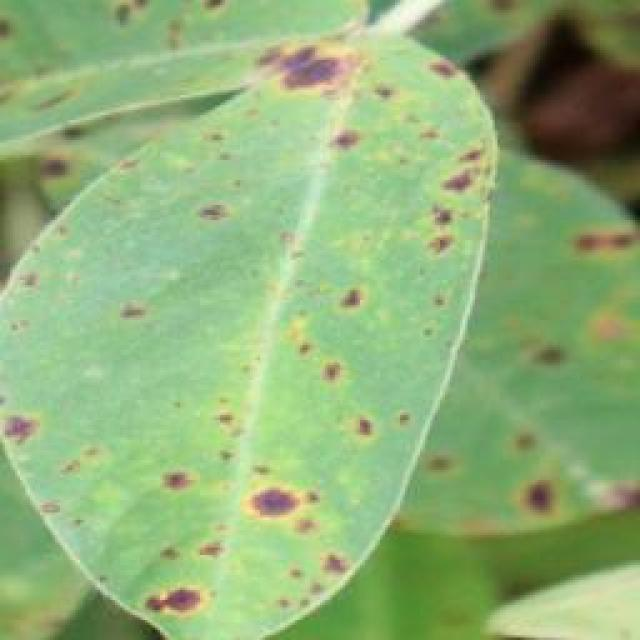Yellowish: (24, 0, 627, 575)
